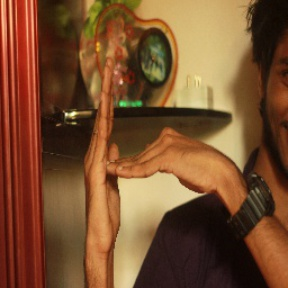Z: (81, 63, 228, 254)
